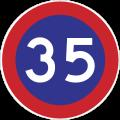Speed Limit -35-: (22, 31, 98, 107)
